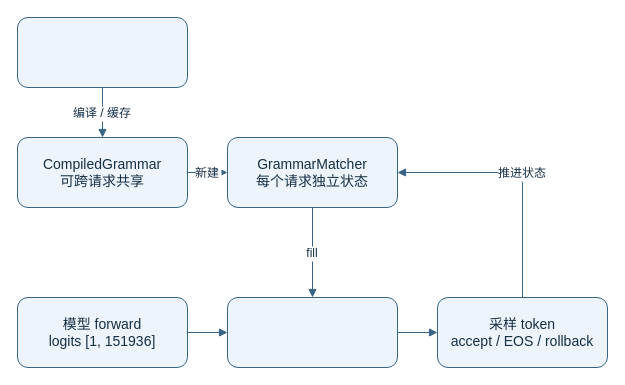
Some shapes in this 625 by 385 pixel diagram are drawn without their labels. Each missing label, with the box of its shape:
bitmask [1, 4748] 0 位对应 logit = −∞: (226, 296, 398, 368)
JSON Schema 字段、类型与枚举: (16, 16, 188, 88)
